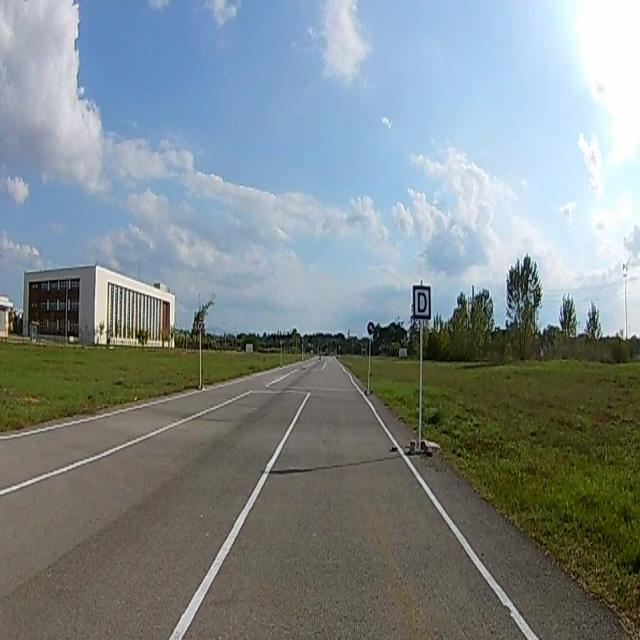durak: (412, 286, 430, 319)
sol: (366, 322, 374, 335)
